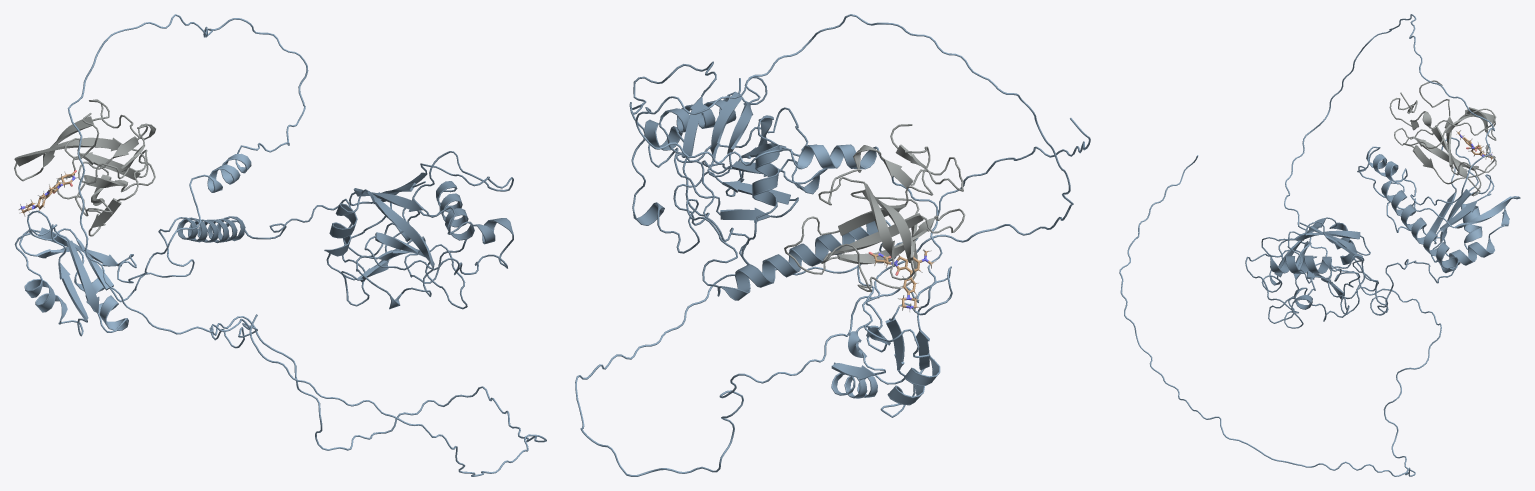
The picture shows the model from 3 angles, left to right: view 1: azimuth 30°, elevation 25°; view 2: azimuth 150°, elevation 25°; view 3: azimuth 270°, elevation 25°; orthographic projection. The views are drawn at different scales.
Parts seen in each view (by area): view 1: node-geom113, node-geom114; view 2: node-geom113, node-geom114; view 3: node-geom113, node-geom114.
Boxes of the visible parts, bbox=[...] form: node-geom113: bbox=[14, 99, 513, 309]; node-geom114: bbox=[14, 14, 546, 476]; node-geom113: bbox=[629, 61, 965, 300]; node-geom114: bbox=[575, 14, 1090, 476]; node-geom113: bbox=[1245, 80, 1496, 328]; node-geom114: bbox=[1119, 14, 1520, 476].
Bounding box in the file's own units: 105 × 110 × 111.
